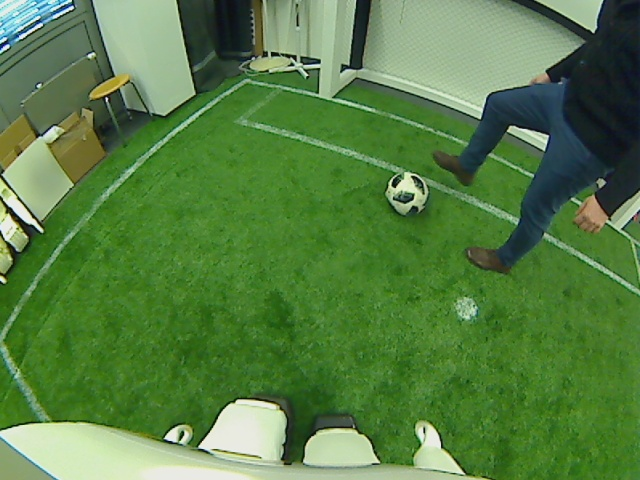ball: (385, 169, 427, 216)
